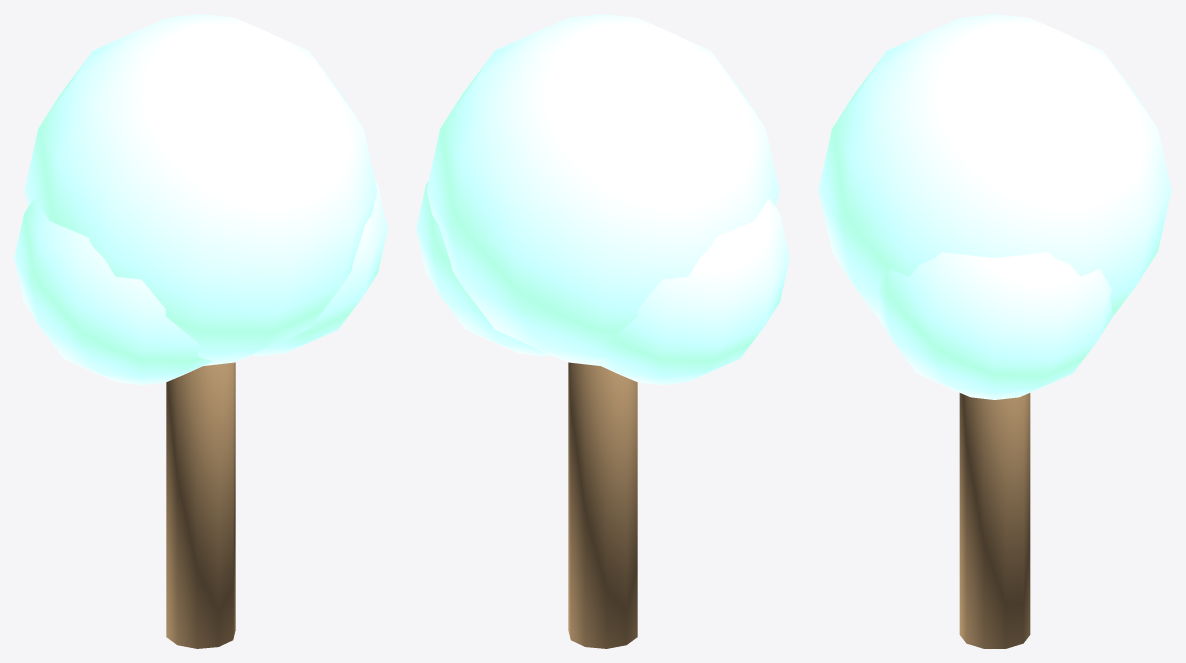
Rendered from cute_fluffy_tree.glb.
3 views of the same model, side by side, from view 1: azimuth 30°, elevation 25°; view 2: azimuth 150°, elevation 25°; view 3: azimuth 270°, elevation 25° (orthographic).
Parts seen in each view (by area): view 1: Sphere, Cylinder, Sphere.002, Sphere.001; view 2: Sphere, Cylinder, Sphere.002, Sphere.001; view 3: Sphere, Sphere.001, Cylinder.
Boxes of the visible parts, <box> form: Sphere: <box>24,14,377,365</box>; Cylinder: <box>166,362,235,648</box>; Sphere.002: <box>14,199,213,385</box>; Sphere.001: <box>252,181,387,356</box>; Sphere: <box>426,14,779,365</box>; Cylinder: <box>568,362,637,648</box>; Sphere.002: <box>590,199,789,385</box>; Sphere.001: <box>416,181,551,356</box>; Sphere: <box>818,14,1171,316</box>; Sphere.001: <box>877,252,1112,399</box>; Cylinder: <box>959,393,1030,648</box>.
Size of the model in its own units: 2 by 3.4 by 1.8.
